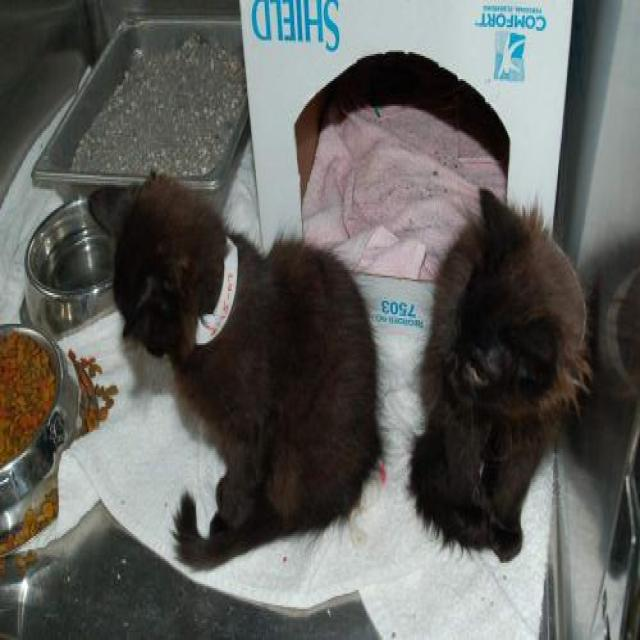Cat: (87, 166, 383, 568), (406, 185, 595, 563)
